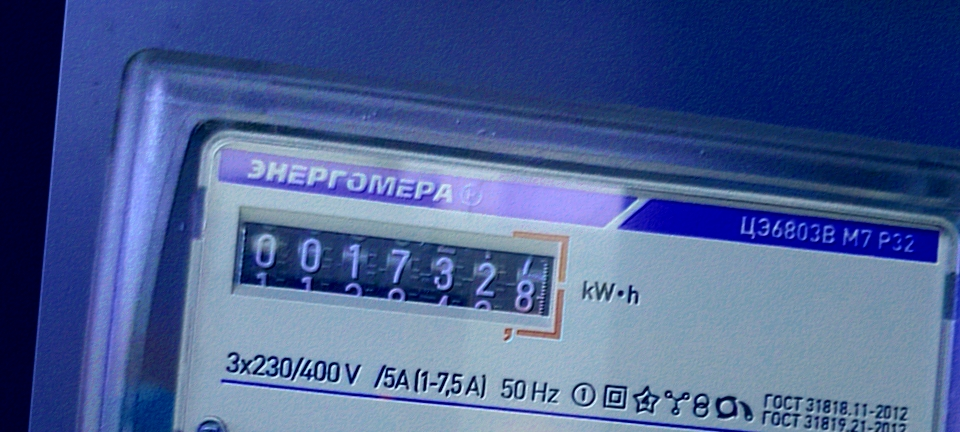0: (251, 230, 280, 272), (299, 236, 324, 276)
1: (343, 241, 364, 282)
2: (473, 261, 499, 299)
3: (432, 255, 457, 293)
7: (387, 247, 412, 287)
8: (513, 277, 535, 314)
screen: (218, 203, 581, 349)
